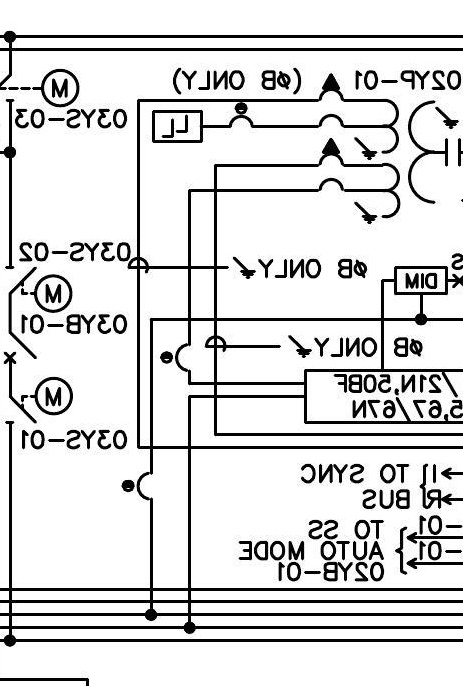115_1way_ds_w_motor: (5, 265, 74, 314), (5, 376, 74, 424)
115_breaker: (3, 331, 38, 364)
115_cvt_1p: (316, 72, 462, 225)
DIM: (394, 266, 448, 295)
LL: (152, 110, 203, 143)
